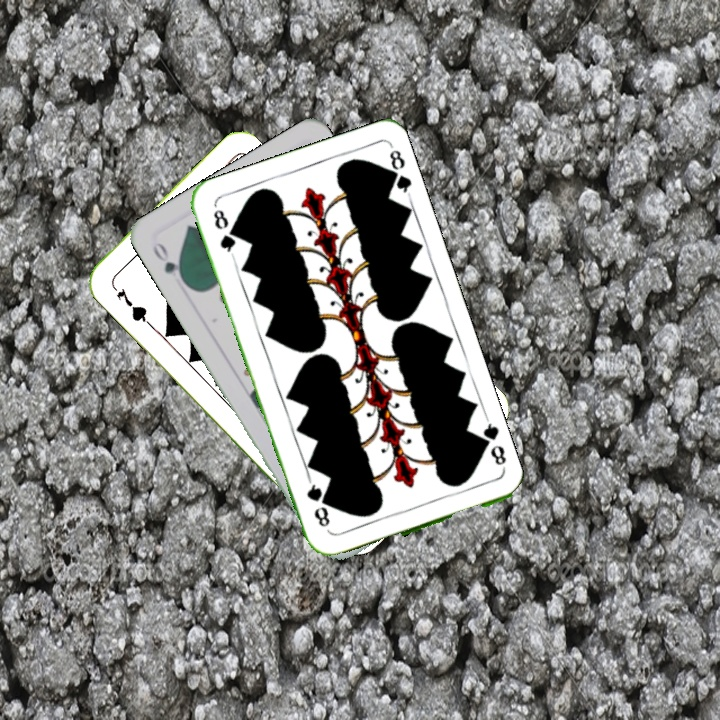G7: (107, 280, 153, 327)
G8: (473, 416, 509, 474), (209, 205, 239, 260)
GO: (148, 238, 190, 288)
